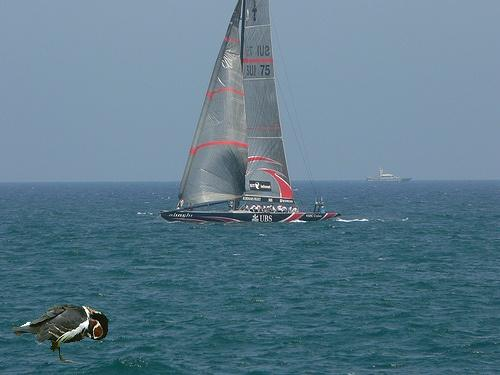tampered: (13, 305, 108, 362)
